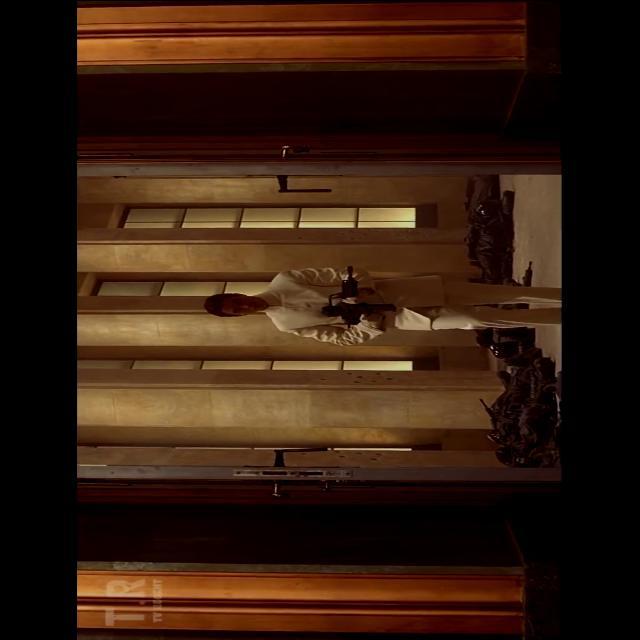long weapon: (319, 250, 421, 348)
